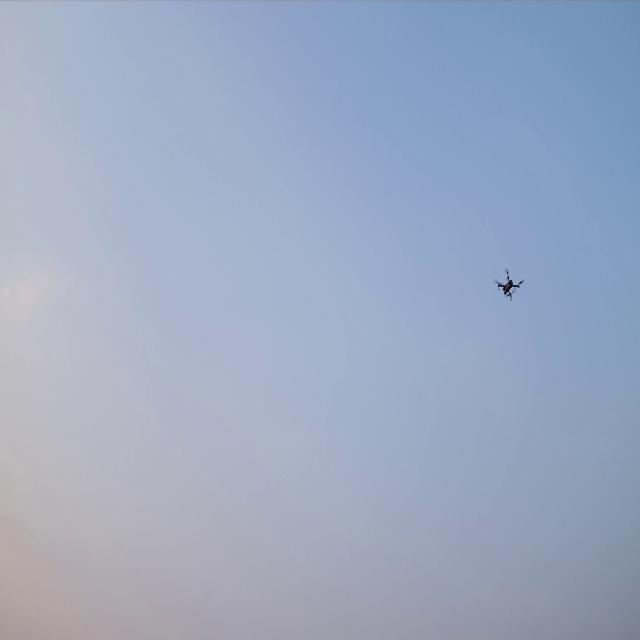UAV: (492, 266, 525, 303)
